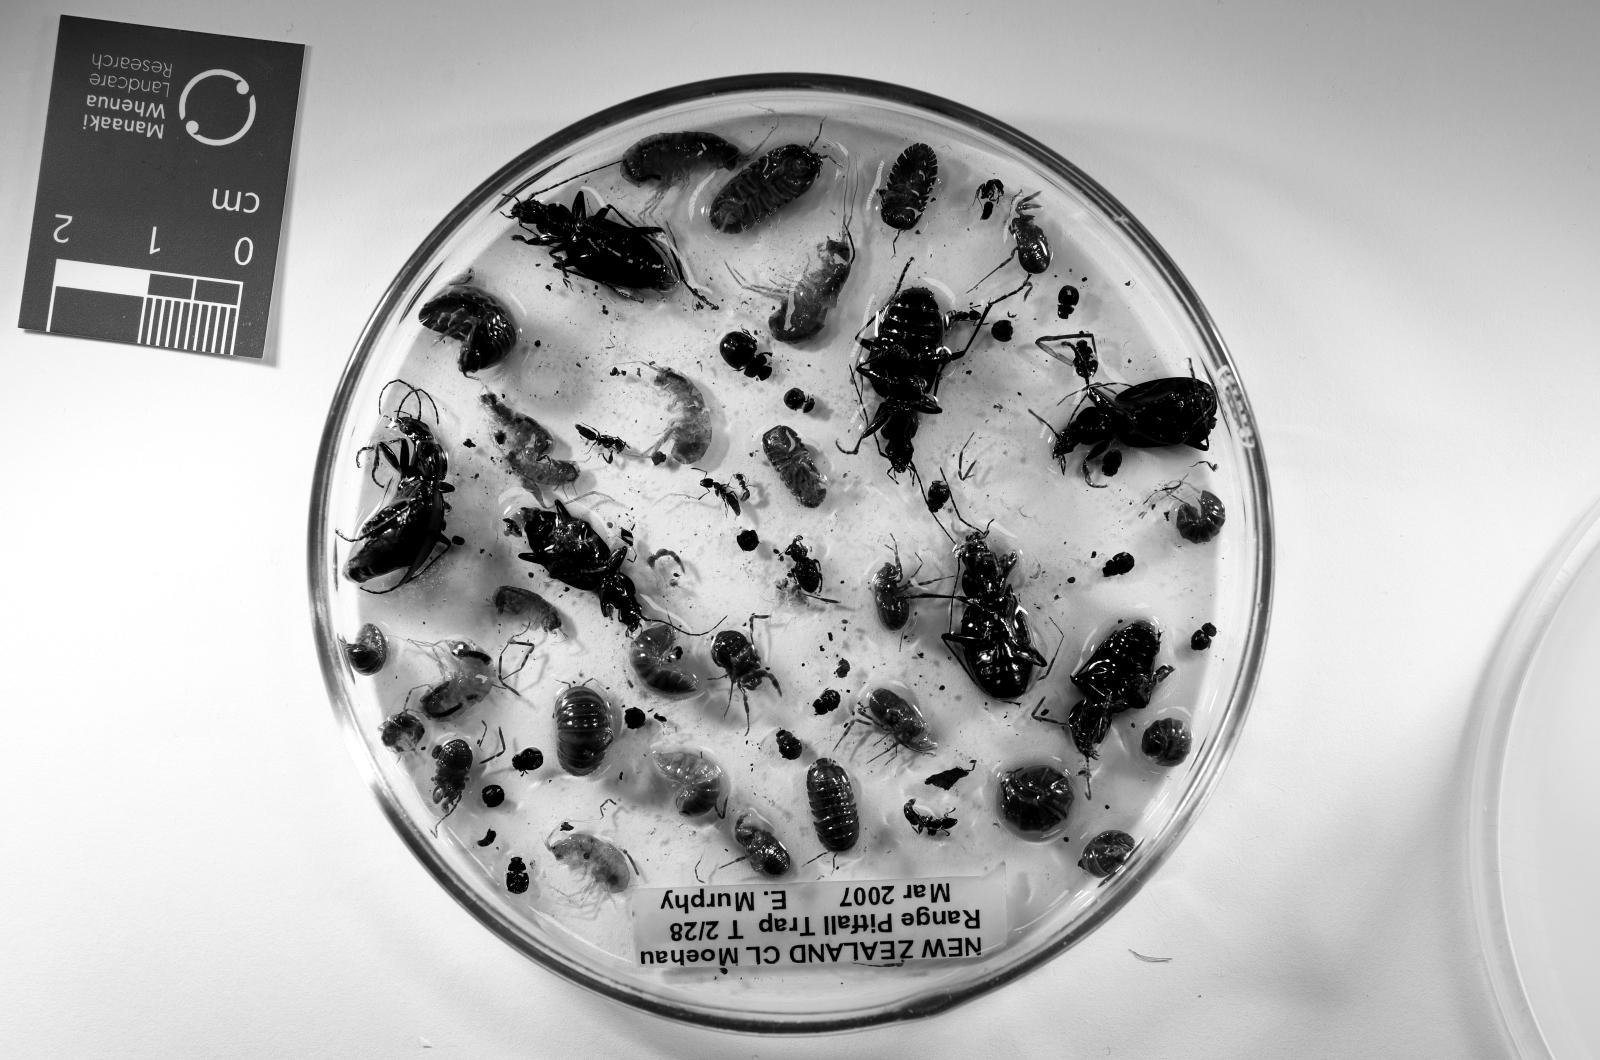amphipoda: (731, 239, 856, 344), (622, 130, 744, 214), (641, 367, 713, 466), (415, 640, 497, 720), (546, 833, 631, 894), (478, 392, 553, 459), (491, 587, 563, 634), (506, 453, 578, 485)
carabidae: (856, 286, 966, 476), (344, 401, 453, 584), (506, 500, 643, 634), (944, 531, 1047, 699), (510, 193, 681, 292), (1054, 376, 1219, 468), (1069, 621, 1172, 757)
coleoptera: (719, 332, 772, 379), (784, 537, 822, 593), (1071, 338, 1097, 379), (775, 730, 803, 761), (506, 857, 529, 894), (512, 749, 544, 774), (784, 388, 816, 413), (1103, 552, 1134, 577), (925, 481, 950, 512), (1056, 286, 1078, 319), (812, 690, 841, 715), (1191, 625, 1216, 649), (1100, 451, 1122, 476)
formicidae: (903, 801, 957, 835), (700, 478, 740, 516), (575, 426, 628, 453), (944, 308, 982, 329), (974, 177, 1003, 202), (734, 476, 750, 500)
isopoda: (710, 143, 822, 233), (419, 286, 519, 376), (553, 686, 613, 776), (807, 757, 860, 854), (881, 143, 938, 233), (763, 426, 825, 506), (1000, 767, 1071, 833), (653, 751, 721, 816), (631, 625, 697, 692), (1175, 491, 1225, 543), (1078, 833, 1134, 879), (1141, 717, 1191, 767), (344, 625, 388, 674)
opiliones: (713, 615, 782, 707), (843, 690, 938, 751), (1010, 193, 1054, 273), (734, 814, 791, 875), (432, 739, 472, 816), (872, 558, 909, 631)
orthoptera: (378, 711, 425, 755)
